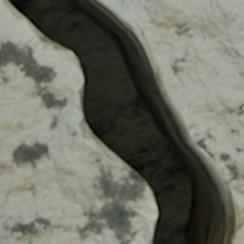crack: (1, 0, 243, 243)
